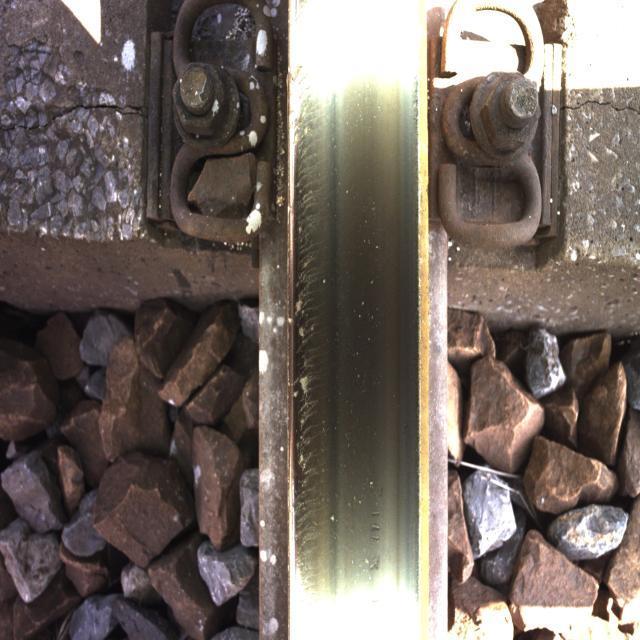scar: (285, 49, 385, 575)
